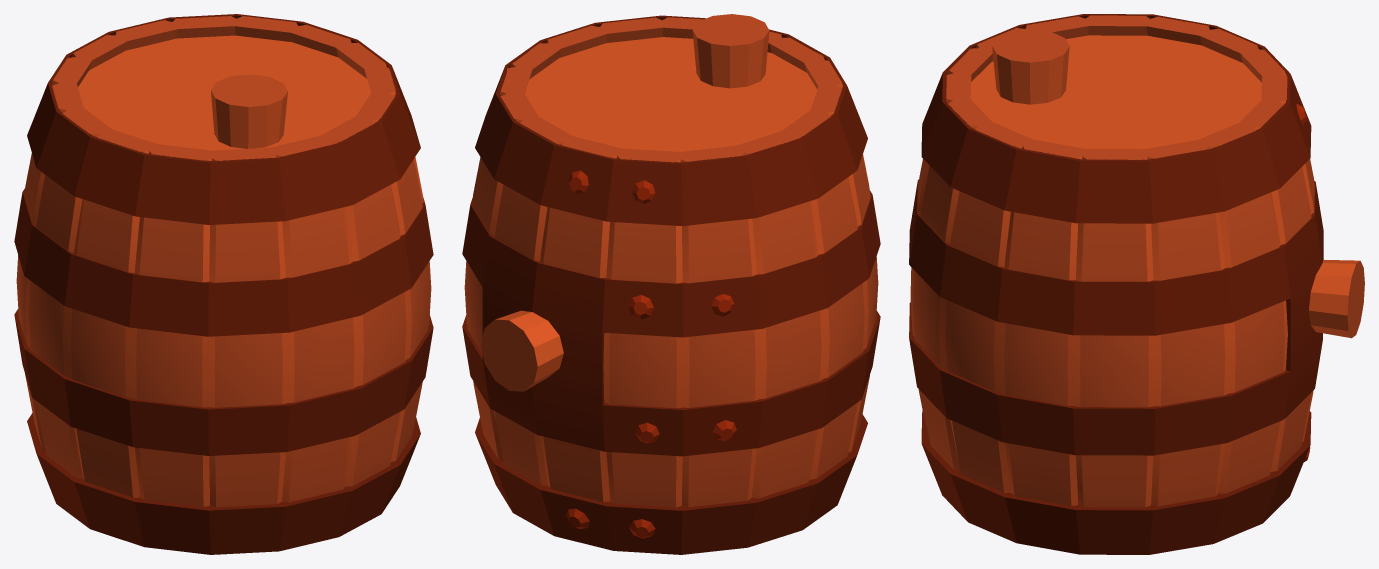
The model's file is item18.glb.
The picture shows the model from 3 angles, left to right: view 1: azimuth 30°, elevation 25°; view 2: azimuth 150°, elevation 25°; view 3: azimuth 270°, elevation 25°; orthographic projection.
Visible parts, largest first — view 1: Item18; view 2: Item18; view 3: Item18.
Part boxes in pixels (x1=…): Item18: x1=14, y1=14, x2=433, y2=554; Item18: x1=462, y1=14, x2=880, y2=554; Item18: x1=909, y1=14, x2=1364, y2=554.
Size of what is drawn, in the model's own units: 0.4023 by 0.4575 by 0.4422.
1 material, 1 textured.
